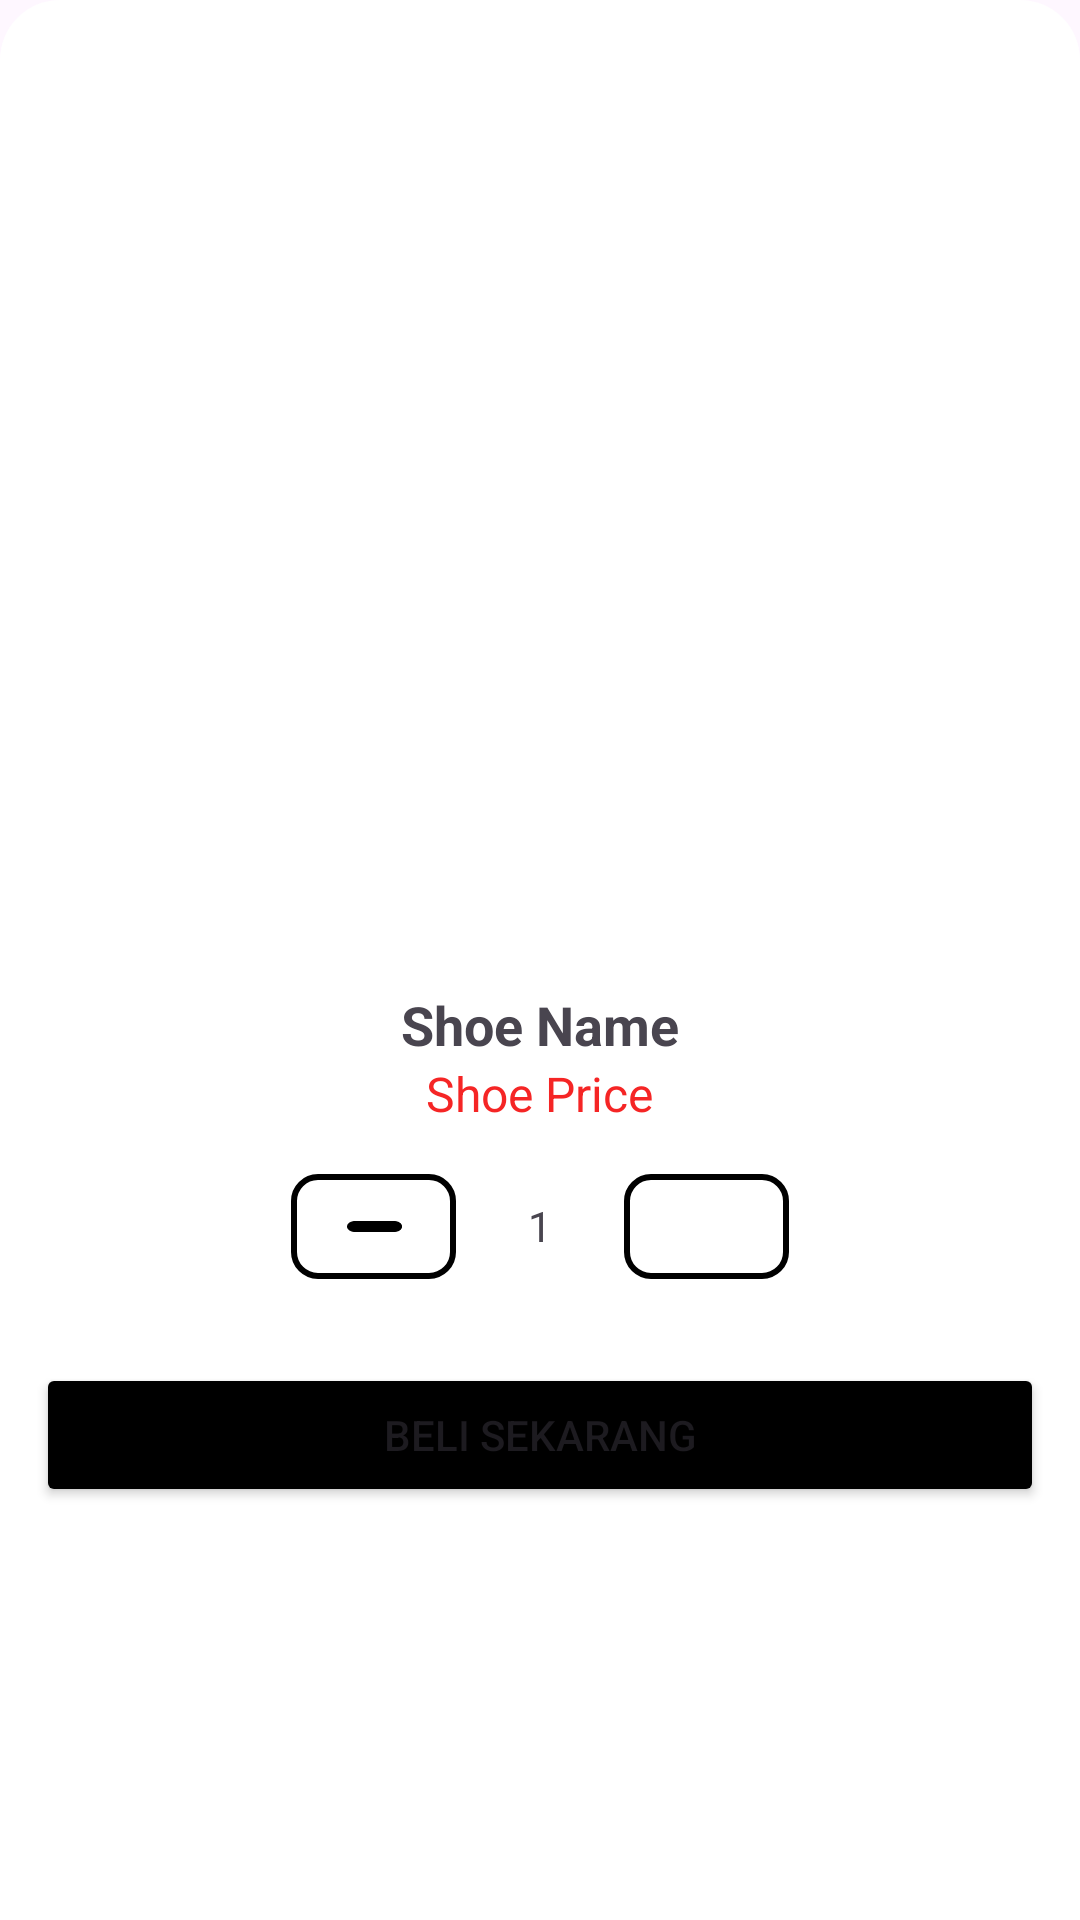

Named icons in this screenshot (1080*1920) and their centers, point (x, y):
minus: point (373, 1226)
